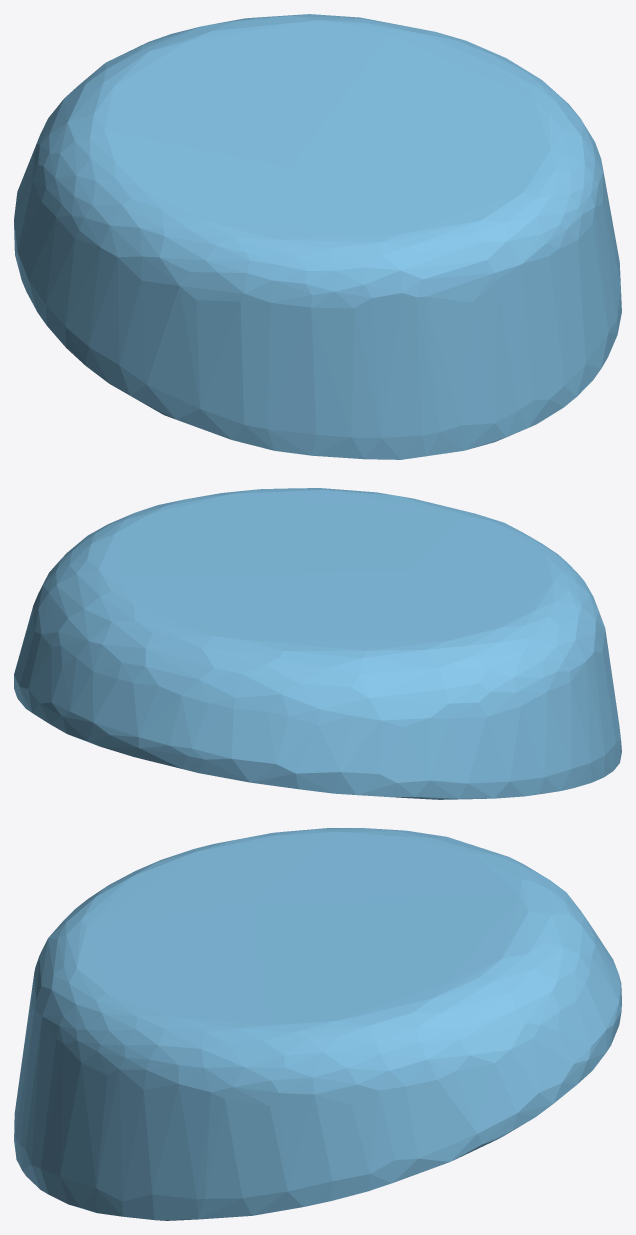
File: ur3_link6_visible_vis_3.dae
3 renders of one model, top to bottom at view 1: azimuth 30°, elevation 25°; view 2: azimuth 150°, elevation 25°; view 3: azimuth 270°, elevation 25°, orthographic.
Parts seen in each view (by area): view 1: Node_000002223FC9B2B0; view 2: Node_000002223FC9B2B0; view 3: Node_000002223FC9B2B0.
Boxes of the visible parts, <box> form: Node_000002223FC9B2B0: <box>14,14,621,459</box>; Node_000002223FC9B2B0: <box>14,488,621,799</box>; Node_000002223FC9B2B0: <box>14,828,621,1220</box>.
Bounding box in the file's own units: 0.0652 × 0.0273 × 0.065.
